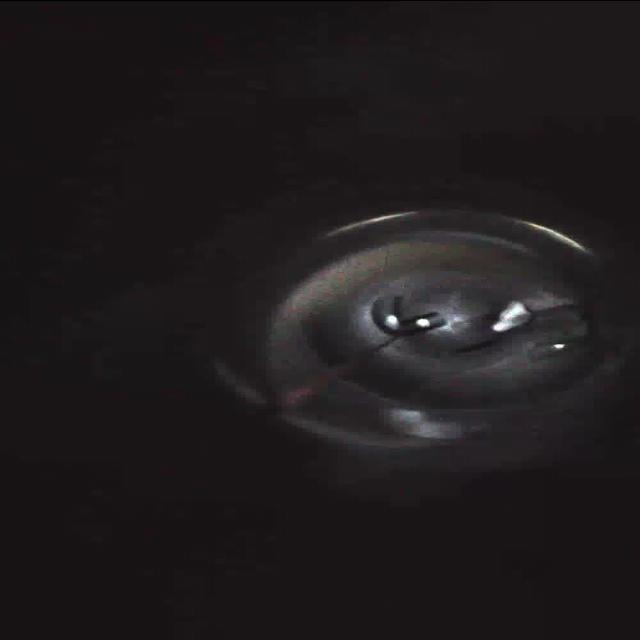impurity: (530, 296, 600, 348), (485, 292, 531, 338)
